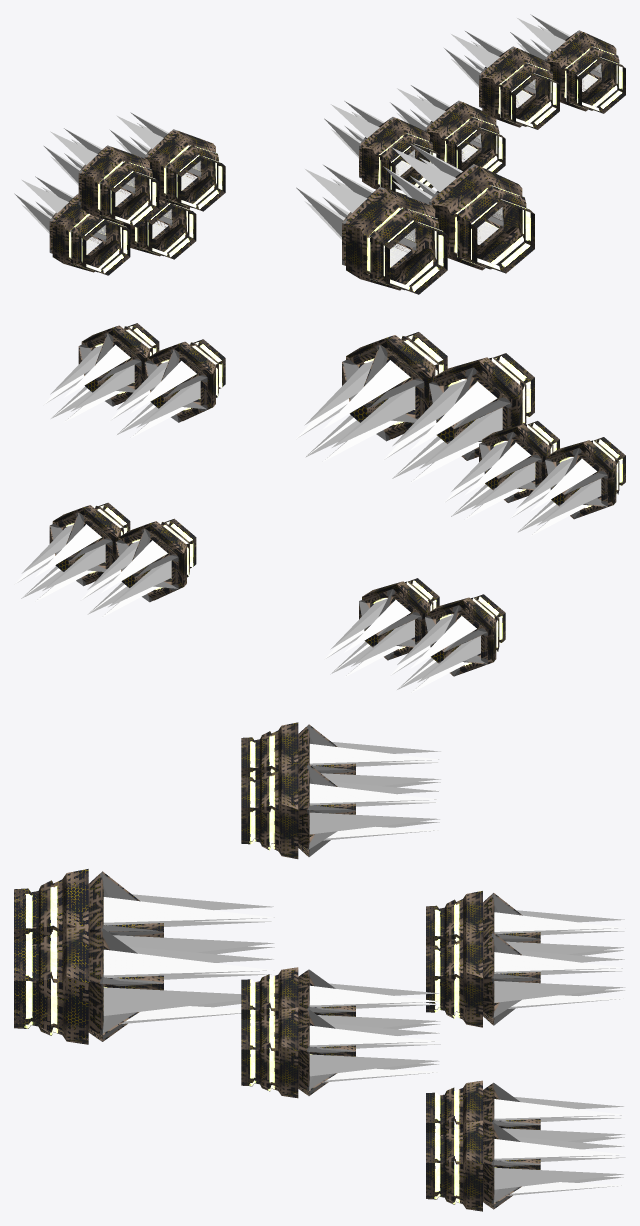
File: nuclear-engines.fbx
3 views of the same model, one above another, from view 1: azimuth 30°, elevation 25°; view 2: azimuth 150°, elevation 25°; view 3: azimuth 270°, elevation 25° (orthographic). The views are drawn at different scales.
Parts seen in each view (by area): view 1: NuclearEngines, NuclearEngines.004, NuclearEngines.002, NuclearEngine_Thrust, NuclearEngine_Thrust.004, NuclearEngine_Thrust.002; view 2: NuclearEngines.002, NuclearEngines, NuclearEngine_Thrust.002, NuclearEngine_Thrust, NuclearEngine_Thrust.004, NuclearEngines.004; view 3: NuclearEngines, NuclearEngines.002, NuclearEngines.004, NuclearEngine_Thrust, NuclearEngine_Thrust.002, NuclearEngine_Thrust.004.
Part boxes in pixels (x1,y1,x2,y2): NuclearEngines: (78,30,625,227); NuclearEngines.004: (342,164,534,294); NuclearEngines.002: (49,100,505,275); NuclearEngine_Thrust: (43,14,601,206); NuclearEngine_Thrust.004: (296,143,502,266); NuclearEngine_Thrust.002: (14,85,480,254); NuclearEngines.002: (49,502,505,676); NuclearEngines: (78,323,625,519); NuclearEngine_Thrust.002: (14,524,480,693); NuclearEngine_Thrust: (44,344,601,535); NuclearEngine_Thrust.004: (296,360,502,482); NuclearEngines.004: (342,332,534,460); NuclearEngines: (241,722,355,1098); NuclearEngines.002: (426,891,540,1211); NuclearEngines.004: (14,869,163,1044); NuclearEngine_Thrust: (309,742,440,1082); NuclearEngine_Thrust.002: (494,910,625,1195); NuclearEngine_Thrust.004: (103,894,274,1023).
Bounding box in the file's own units: 1685 × 575 × 1356.
